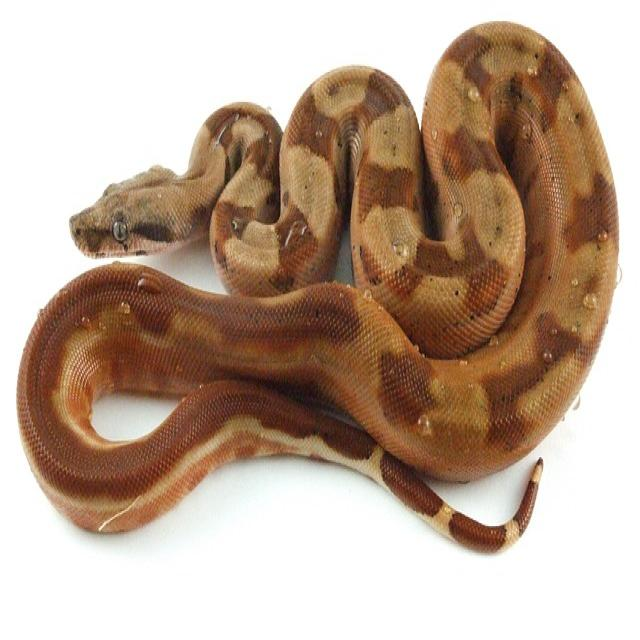Carnivorous: (20, 31, 620, 555)
